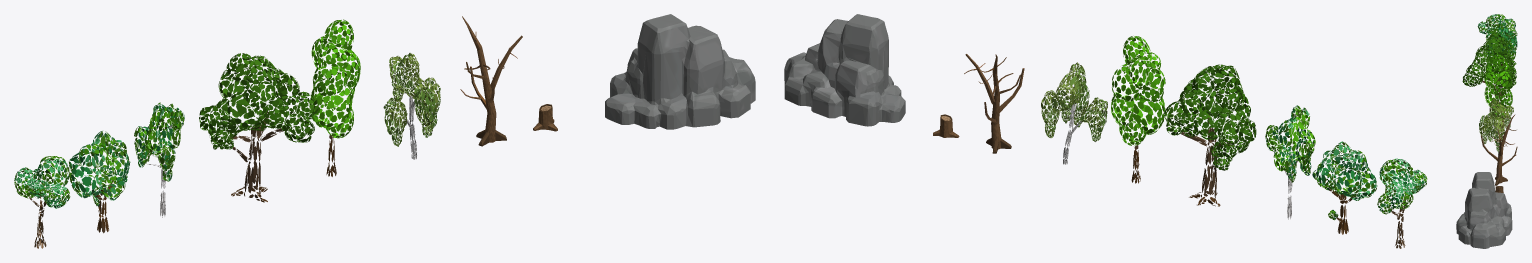
The model's file is trees test.fbx.
3 renders of one model, left to right at view 1: azimuth 30°, elevation 25°; view 2: azimuth 150°, elevation 25°; view 3: azimuth 270°, elevation 25°, orthographic. The views are drawn at different scales.
Visible parts, largest first — view 1: Rock_1__Rock_1__0, _6_tree__6_tree_0, _7_tree__7_tree_0, _10_tree__10_tree_0, _4_tree__4_tree_0, _5_tree__5_tree_0, _3_tree__3_tree_0, _11_tree__11_tree_0, _12_tree__12_tree_0; view 2: Rock_1__Rock_1__0, _6_tree__6_tree_0, _7_tree__7_tree_0, _10_tree__10_tree_0, _4_tree__4_tree_0, _5_tree__5_tree_0, _3_tree__3_tree_0, _11_tree__11_tree_0, _12_tree__12_tree_0; view 3: Rock_1__Rock_1__0, _6_tree__6_tree_0, _7_tree__7_tree_0, _10_tree__10_tree_0, _11_tree__11_tree_0, _3_tree__3_tree_0, _5_tree__5_tree_0, _4_tree__4_tree_0, _12_tree__12_tree_0.
Part boxes in pixels (left/top/right/bottom): Rock_1__Rock_1__0: left=605, top=14, right=755, bottom=129; _6_tree__6_tree_0: left=199, top=53, right=318, bottom=202; _7_tree__7_tree_0: left=309, top=19, right=360, bottom=176; _10_tree__10_tree_0: left=383, top=53, right=440, bottom=159; _4_tree__4_tree_0: left=69, top=131, right=130, bottom=233; _5_tree__5_tree_0: left=134, top=102, right=184, bottom=217; _3_tree__3_tree_0: left=14, top=156, right=70, bottom=248; _11_tree__11_tree_0: left=460, top=16, right=522, bottom=146; _12_tree__12_tree_0: left=533, top=104, right=557, bottom=131; Rock_1__Rock_1__0: left=784, top=14, right=905, bottom=126; _6_tree__6_tree_0: left=1164, top=64, right=1256, bottom=206; _7_tree__7_tree_0: left=1111, top=36, right=1165, bottom=183; _10_tree__10_tree_0: left=1041, top=62, right=1107, bottom=164; _4_tree__4_tree_0: left=1312, top=141, right=1377, bottom=234; _5_tree__5_tree_0: left=1265, top=105, right=1315, bottom=219; _3_tree__3_tree_0: left=1377, top=158, right=1427, bottom=248; _11_tree__11_tree_0: left=964, top=54, right=1024, bottom=153; _12_tree__12_tree_0: left=933, top=114, right=959, bottom=137; Rock_1__Rock_1__0: left=1456, top=172, right=1512, bottom=248; _6_tree__6_tree_0: left=1462, top=32, right=1516, bottom=122; _7_tree__7_tree_0: left=1484, top=54, right=1512, bottom=138; _10_tree__10_tree_0: left=1479, top=98, right=1513, bottom=157; _11_tree__11_tree_0: left=1481, top=114, right=1517, bottom=185; _3_tree__3_tree_0: left=1477, top=14, right=1517, bottom=39; _5_tree__5_tree_0: left=1485, top=27, right=1516, bottom=93; _4_tree__4_tree_0: left=1486, top=23, right=1517, bottom=76; _12_tree__12_tree_0: left=1495, top=186, right=1503, bottom=192.
Size of the model in its own units: 1316 by 281 by 178.
Materials: 9 (9 with a texture image).
